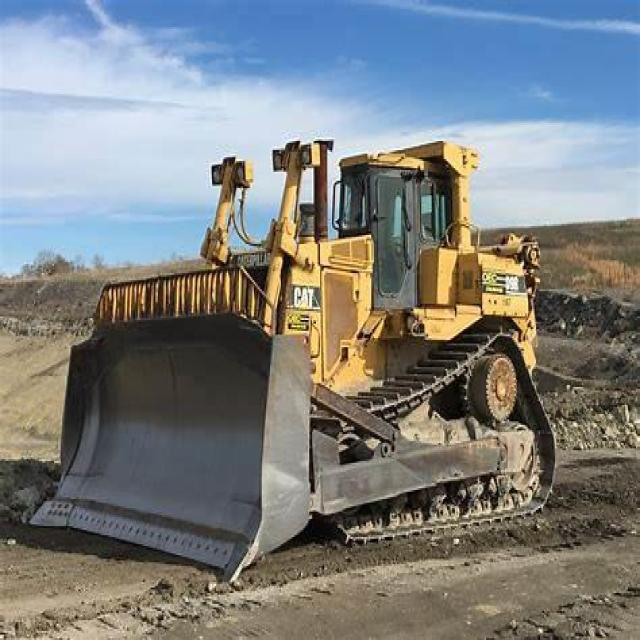buldozerpayloadergrader: (18, 90, 562, 557)
